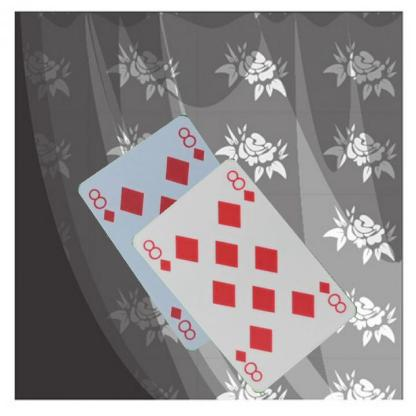8d: (140, 236, 174, 274), (316, 278, 348, 315), (86, 186, 116, 224)
